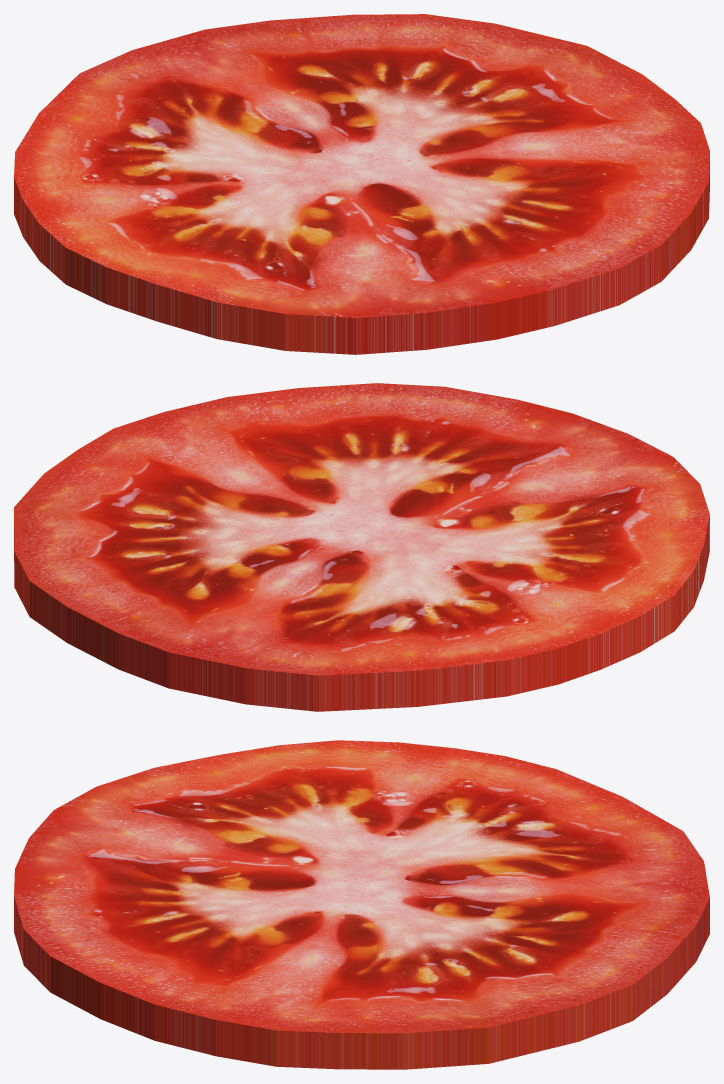
The model's file is Tomato.fbx.
3 renders of one model, top to bottom at view 1: azimuth 30°, elevation 25°; view 2: azimuth 150°, elevation 25°; view 3: azimuth 270°, elevation 25°, orthographic. The views are drawn at different scales.
Visible parts, largest first — view 1: Плоскость; view 2: Плоскость; view 3: Плоскость.
Part boxes in pixels (x1=…): Плоскость: x1=14, y1=14, x2=709, y2=354; Плоскость: x1=14, y1=383, x2=709, y2=711; Плоскость: x1=14, y1=740, x2=709, y2=1069.
Bounding box in the file's own units: 36.92 × 2.13 × 37.05.
Materials: 1 (1 with a texture image).
